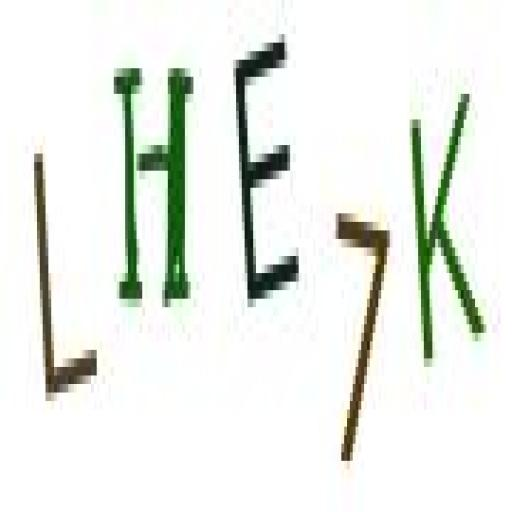7: (327, 184, 395, 480)
E: (226, 31, 310, 320)
H: (110, 46, 201, 332)
K: (405, 79, 492, 375)
L: (26, 132, 104, 413)
